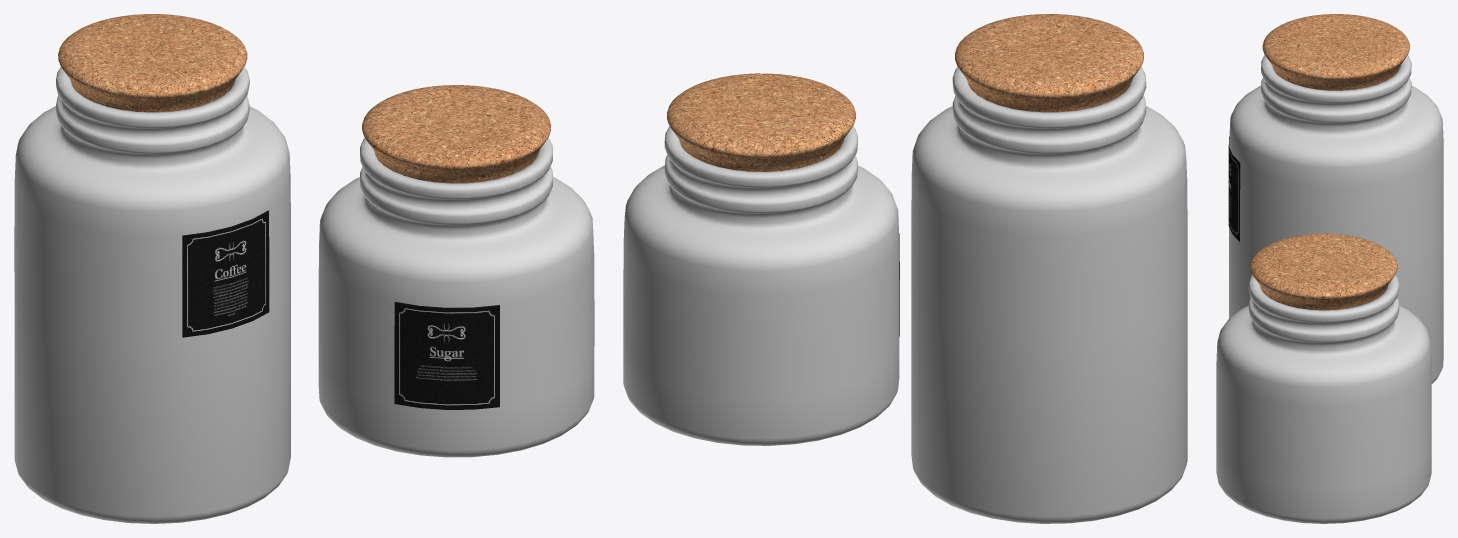
The model's file is kitchen-set-8-glass-pots.glb.
The picture shows the model from 3 angles, left to right: view 1: azimuth 30°, elevation 25°; view 2: azimuth 150°, elevation 25°; view 3: azimuth 270°, elevation 25°; orthographic projection. The views are drawn at different scales.
Visible parts, largest first — view 1: 3DGeom~24_Defintion, 3DGeom~67_Defintion; view 2: 3DGeom~24_Defintion, 3DGeom~67_Defintion; view 3: 3DGeom~67_Defintion, 3DGeom~24_Defintion.
Part boxes in pixels (box(x1,y1,x2,y2)): 3DGeom~24_Defintion: box(14, 14, 290, 523); 3DGeom~67_Defintion: box(318, 85, 594, 457); 3DGeom~24_Defintion: box(911, 14, 1187, 523); 3DGeom~67_Defintion: box(623, 73, 899, 445); 3DGeom~67_Defintion: box(1216, 233, 1431, 523); 3DGeom~24_Defintion: box(1228, 14, 1443, 383).
Size of the model in its own units: 0.2852 by 0.2144 by 0.1347.
Materials: 6 (5 with a texture image).
